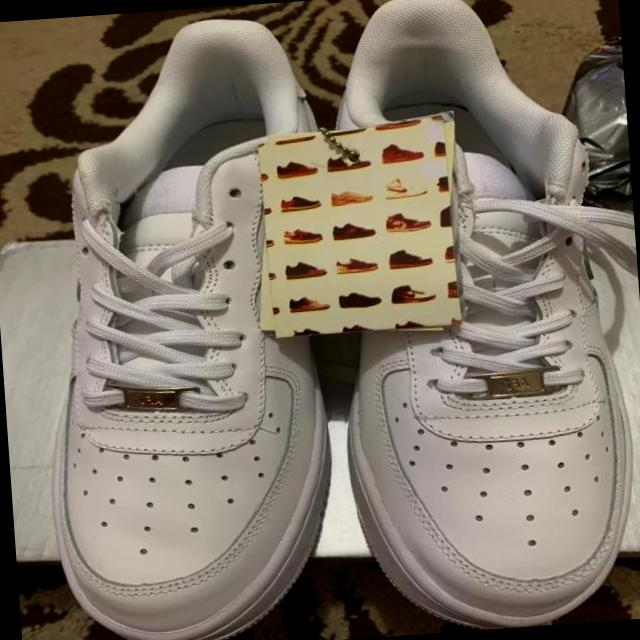nike_fake_airforce: (0, 11, 351, 640), (309, 0, 640, 638)
